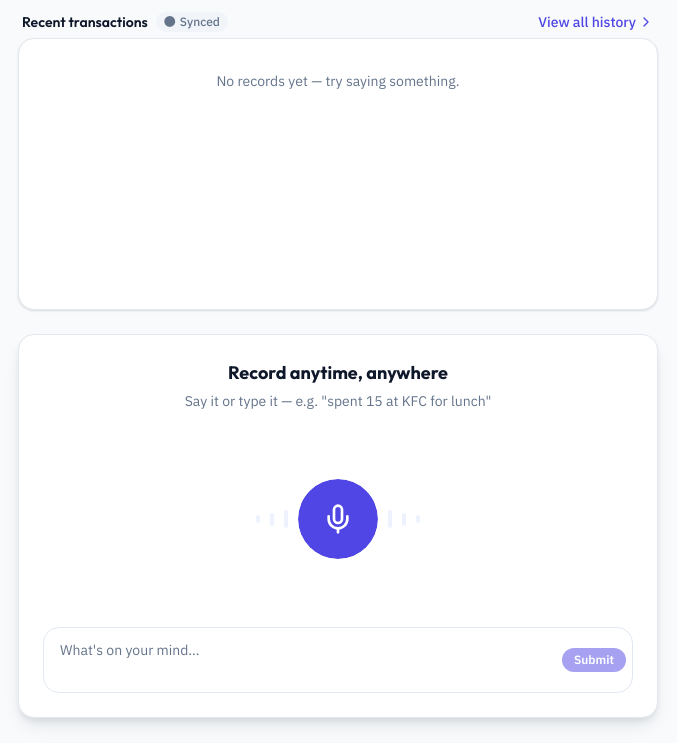
Test: 主屏 - 提交/归并/失败路径（Plan 1 既有用例） › 近似拼写的商户名归并到历史已用过的写法（打通 normalizeMerchant + knownMerchants + handleSubmit）
Type "第一笔10" into the text box at {"x": 307, "y": 660}, box [60, 634, 554, 686]
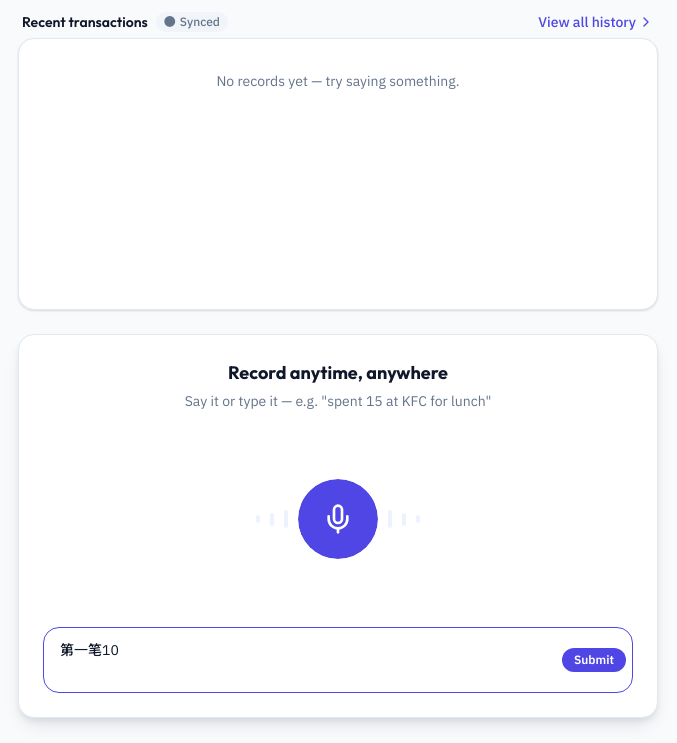
Click the button "Submit" at {"x": 594, "y": 660}, box [562, 648, 626, 672]
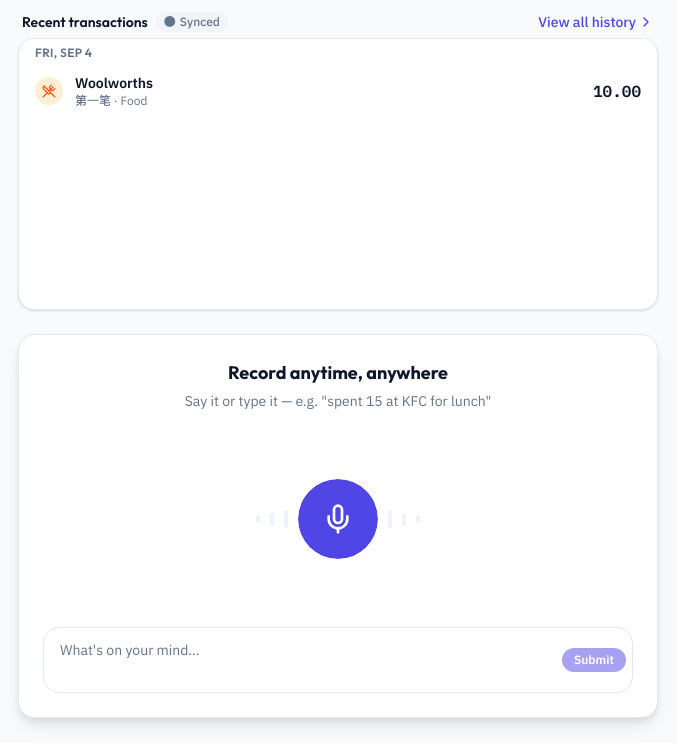
Result: the text "Woolworths" is shown at [75, 73, 153, 93]
Type "第二笔20" into the text box at {"x": 307, "y": 660}, box [60, 634, 554, 686]
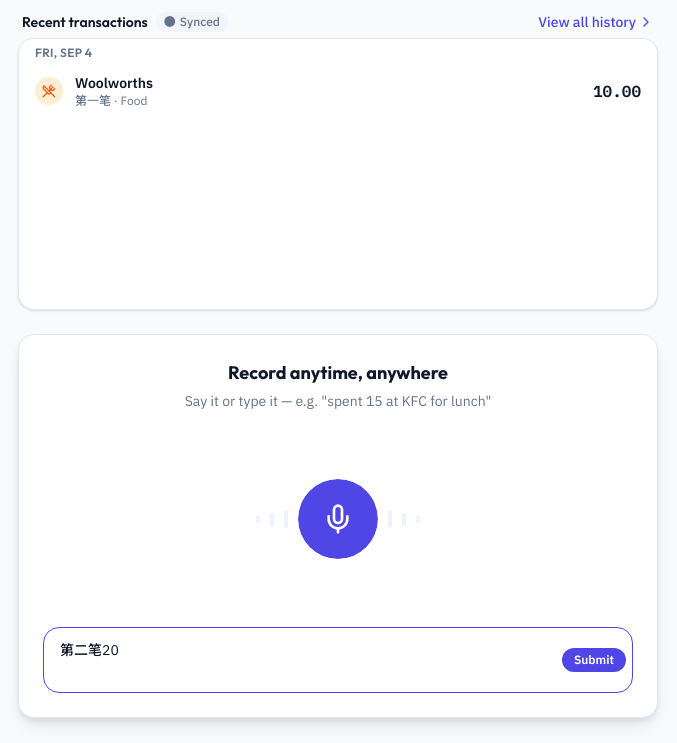
Click the button "Submit" at {"x": 594, "y": 660}, box [562, 648, 626, 672]
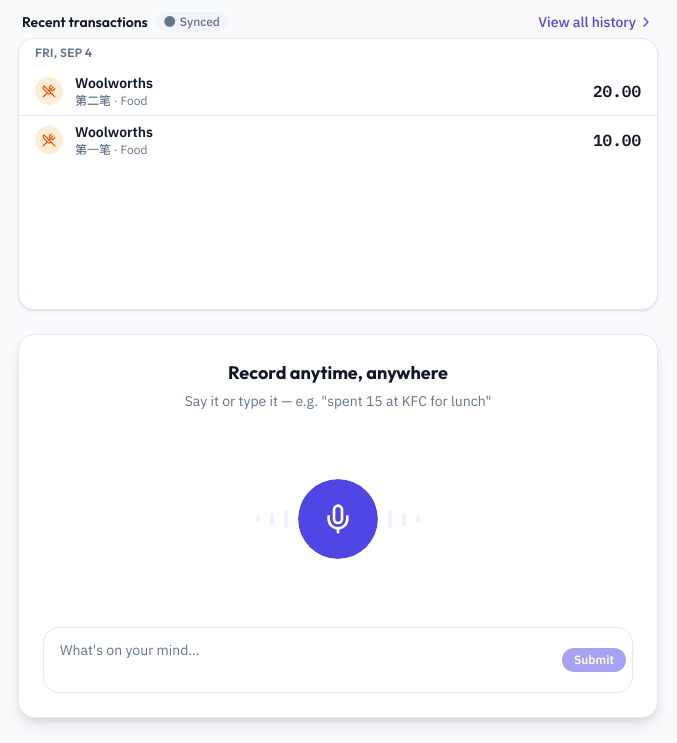
Result: the text "Woolworths" is shown 2 times at [75, 73, 153, 93]; [75, 122, 153, 142]
